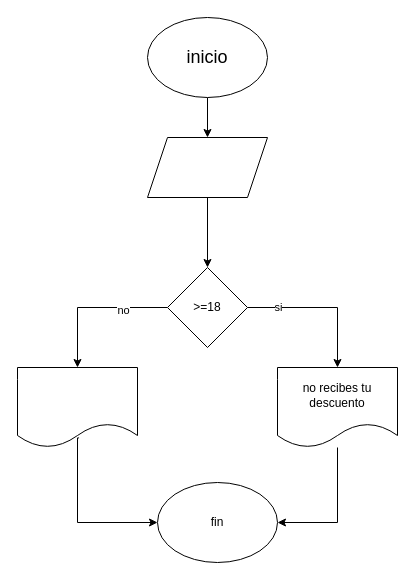
Some shapes in this 415 by 580 pixel diagram are drawn without their labels. Each missing label, with the centre of its shape:
"ingresa tu edad" belongs at point 207,167.
"no puede votar" belongs at point 77,407.
